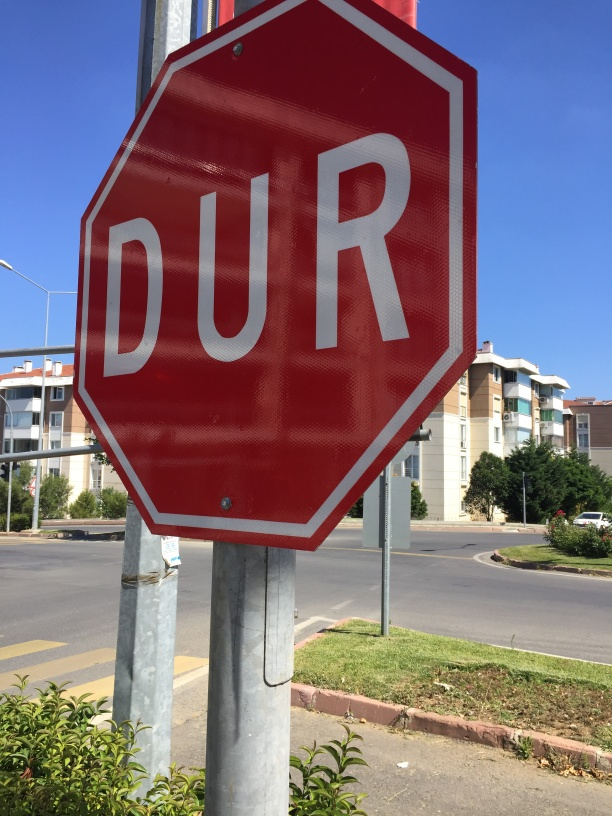arac_dur_isareti: (36, 77, 486, 535)
